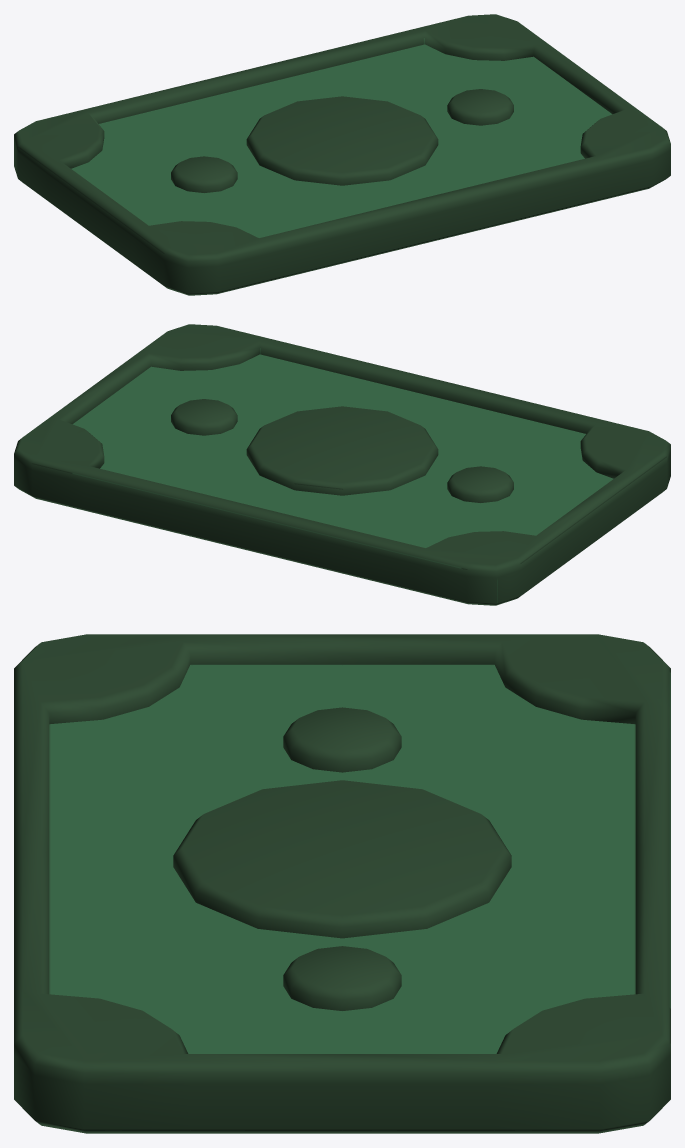
File: moneyBill.fbx
The picture shows the model from 3 angles, top to bottom: view 1: azimuth 30°, elevation 25°; view 2: azimuth 150°, elevation 25°; view 3: azimuth 270°, elevation 25°; orthographic projection. The views are drawn at different scales.
Parts seen in each view (by area): view 1: moneyBill; view 2: moneyBill; view 3: moneyBill.
Boxes of the visible parts, box(x1,y1,x2,y2) form: moneyBill: box(14, 14, 670, 295); moneyBill: box(14, 324, 670, 605); moneyBill: box(14, 634, 670, 1133).
Bounding box in the file's own units: 87.95 × 6.82 × 56.21.
